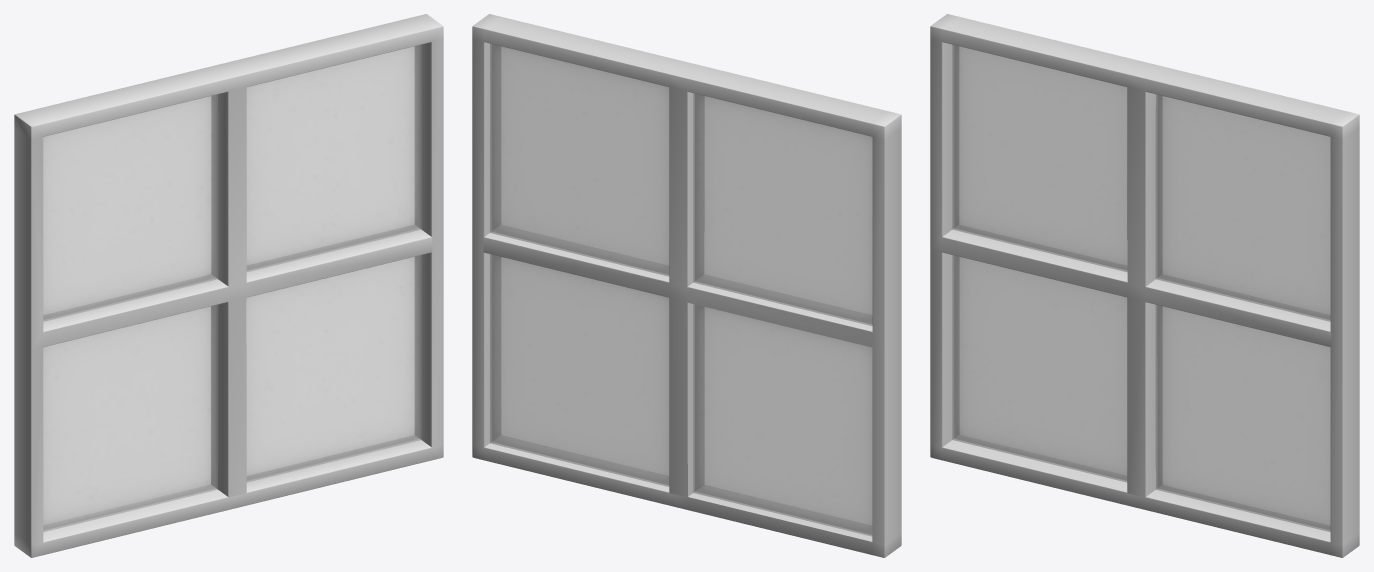
The model's file is window2.glb.
The picture shows the model from 3 angles, left to right: view 1: azimuth 30°, elevation 25°; view 2: azimuth 150°, elevation 25°; view 3: azimuth 330°, elevation 25°; orthographic projection.
Parts seen in each view (by area): view 1: Glass, Window_Frame; view 2: Glass, Window_Frame; view 3: Glass, Window_Frame.
Part boxes in pixels (<box>): Glass: <box>43,45,421,531</box>; Window_Frame: <box>14,14,443,557</box>; Glass: <box>490,44,872,536</box>; Window_Frame: <box>472,14,901,557</box>; Glass: <box>952,45,1330,531</box>; Window_Frame: <box>930,14,1359,557</box>.
Bounding box in the file's own units: 1.34 × 1.34 × 0.0975.
Materials: 2 (2 with a texture image).
